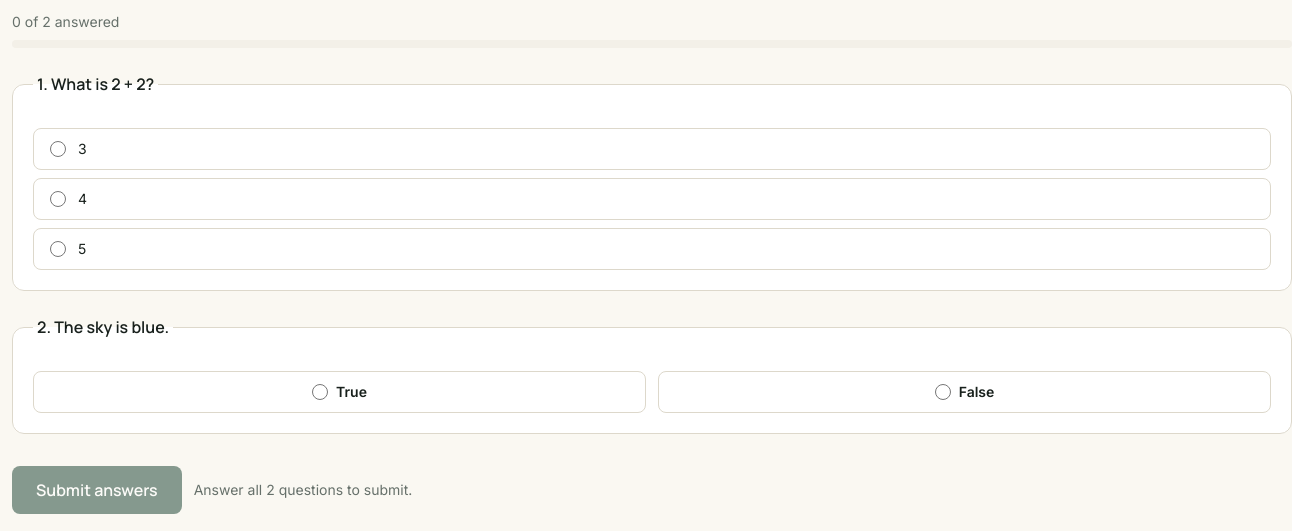
Test: Quiz › enables submit once every question is answered, and shows the score after submitting
This screenshot has width=1292, height=531.
Click the radio button labelled "4" at (58, 199), box top-left (50, 191), bottom-right (66, 207)
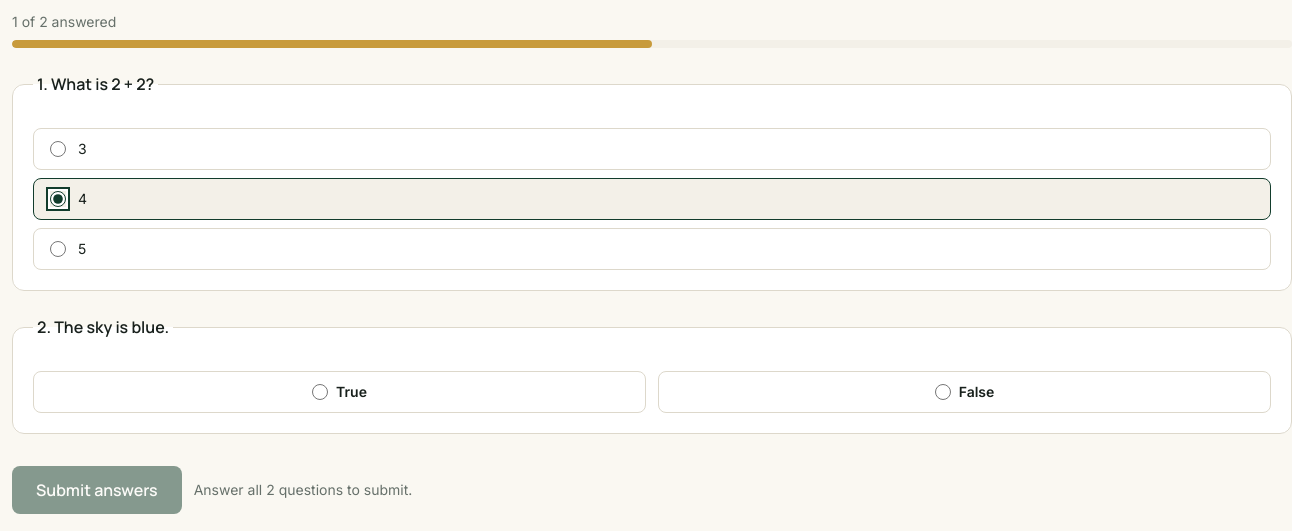
Click the radio button labelled "True" at (320, 392), box top-left (312, 384), bottom-right (328, 400)
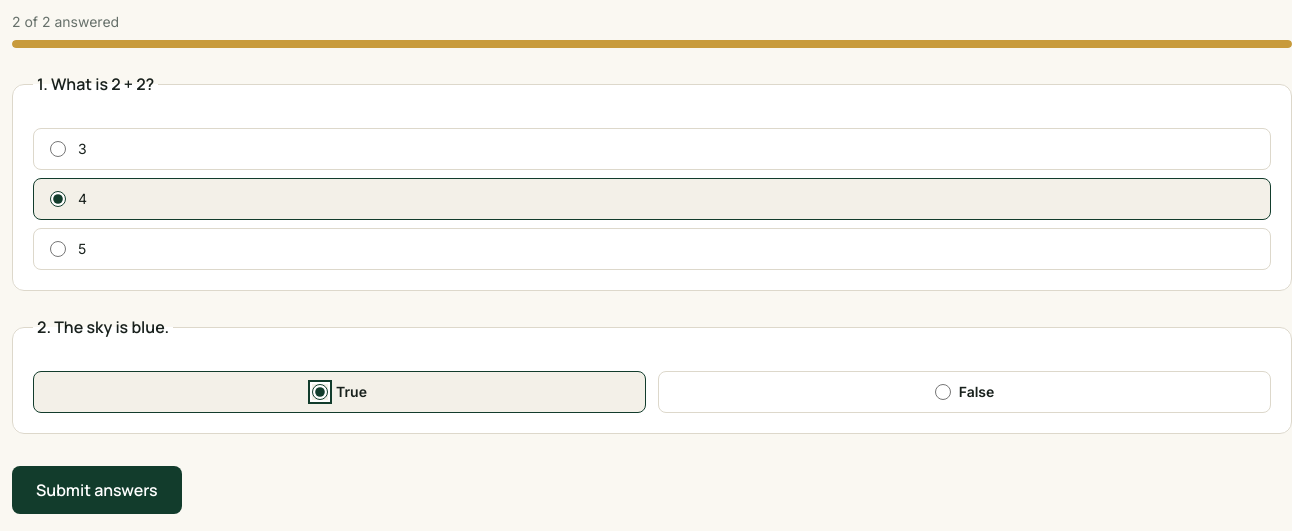
Expected: the button "Submit answers" is enabled
Click the button "Submit answers" at (97, 490), box top-left (12, 466), bottom-right (182, 514)
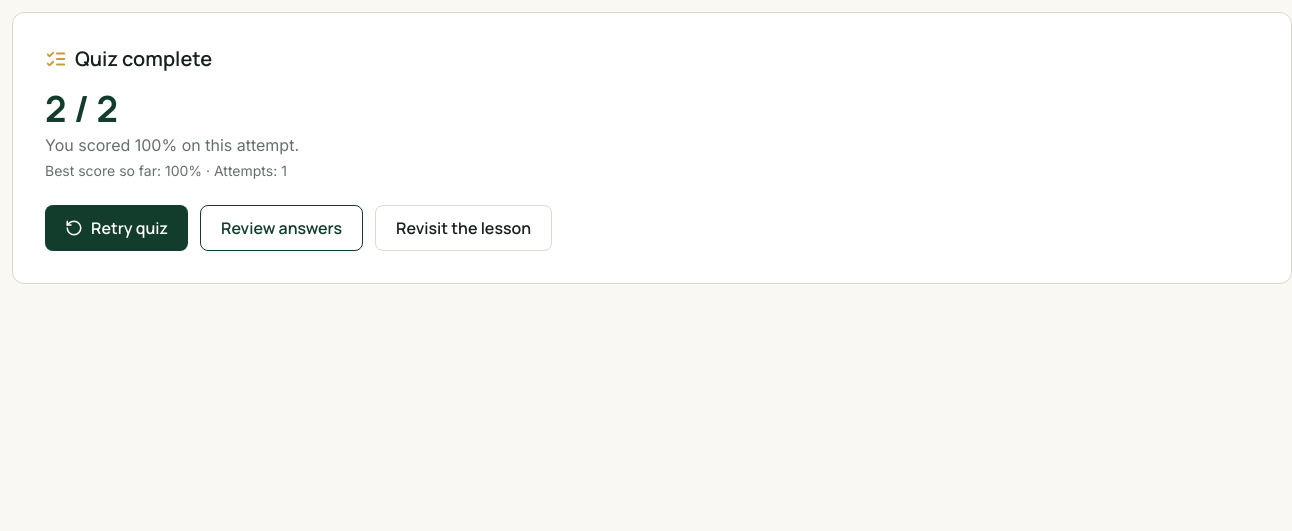
Expected: the heading "Quiz complete" is shown, top-left (75, 45), bottom-right (212, 73)
Expected: the text "2 / 2" is shown, top-left (45, 84), bottom-right (118, 133)
Expected: the text "You scored 100% on this attempt." is shown, top-left (45, 135), bottom-right (299, 155)
